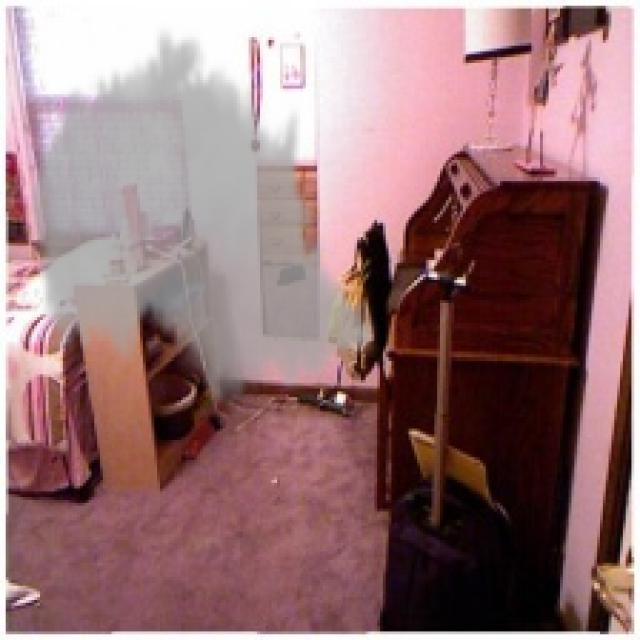smoke: (26, 23, 377, 417)
